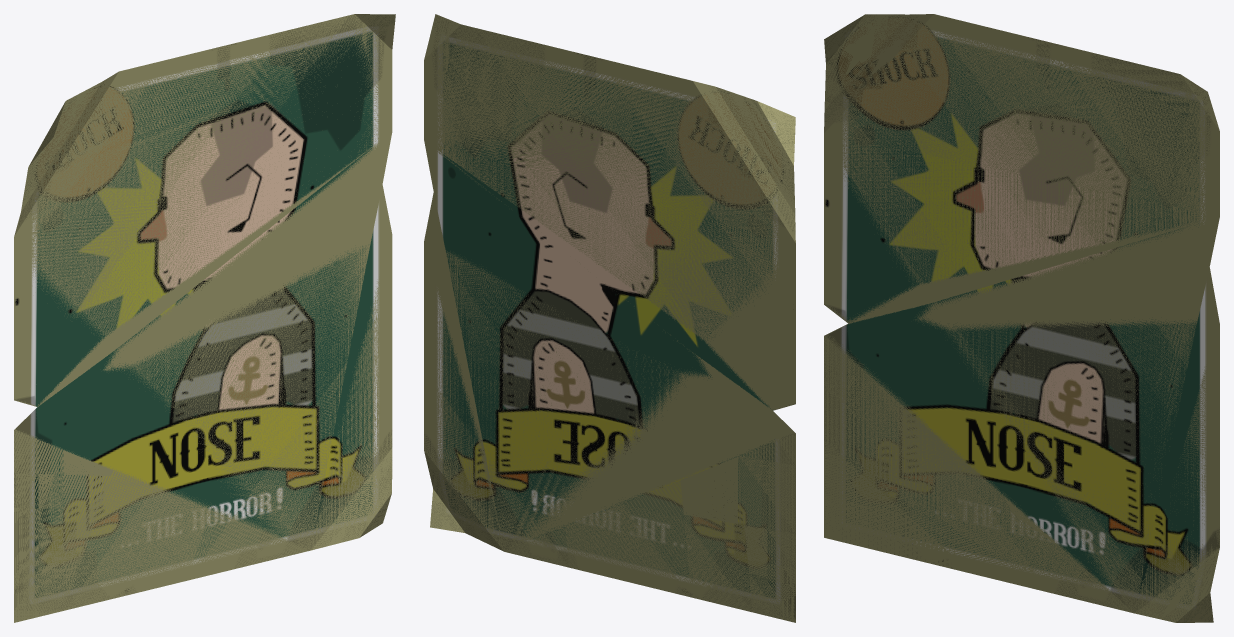
Rendered from SM_Prop_Sign_Show_01_Alt.fbx.
3 renders of one model, left to right at view 1: azimuth 30°, elevation 25°; view 2: azimuth 150°, elevation 25°; view 3: azimuth 330°, elevation 25°, orthographic. The views are drawn at different scales.
Parts seen in each view (by area): view 1: SM_Prop_Sign_Show_01_Alt; view 2: SM_Prop_Sign_Show_01_Alt; view 3: SM_Prop_Sign_Show_01_Alt.
Boxes of the visible parts, x1,y1,x2,y2 form: SM_Prop_Sign_Show_01_Alt: [14, 14, 395, 622]; SM_Prop_Sign_Show_01_Alt: [424, 14, 795, 622]; SM_Prop_Sign_Show_01_Alt: [824, 14, 1219, 622].
Size of the model in its own units: 52.27 by 69.45 by 5.12.
